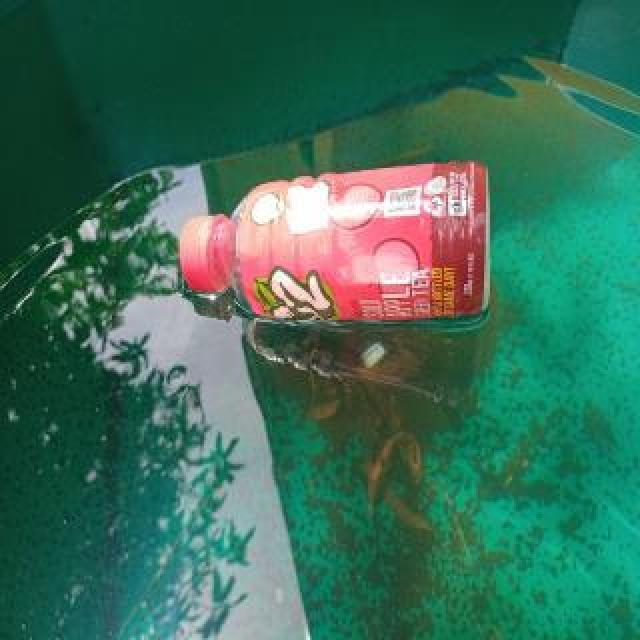bottle: (179, 157, 491, 331)
